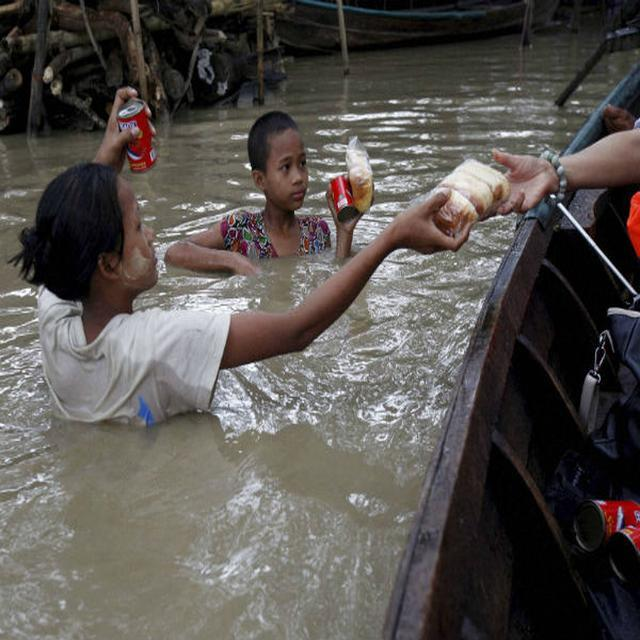Person-RiskLevel3: (24, 83, 498, 425), (168, 104, 375, 274)
